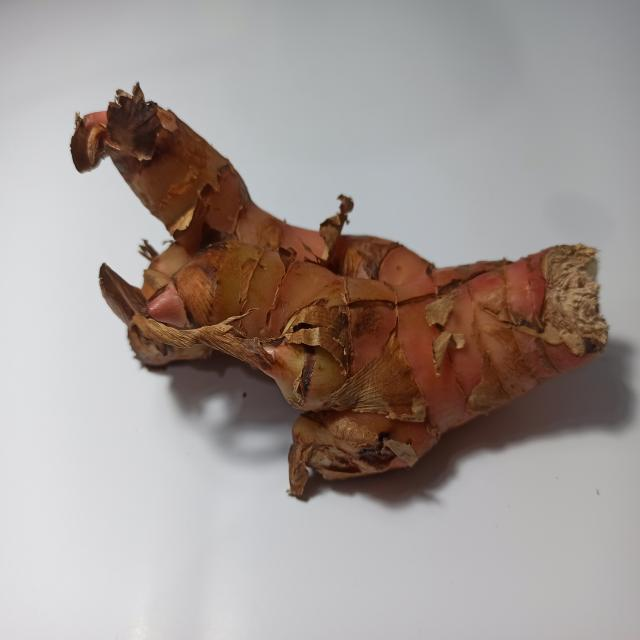ginger: (80, 96, 596, 458)
